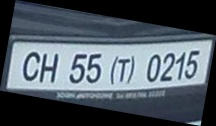character: (37, 52, 59, 84), (67, 52, 87, 84), (21, 51, 40, 82), (84, 52, 101, 83), (158, 52, 175, 81), (183, 50, 199, 80), (145, 53, 161, 82), (174, 51, 186, 80), (117, 57, 130, 83)
